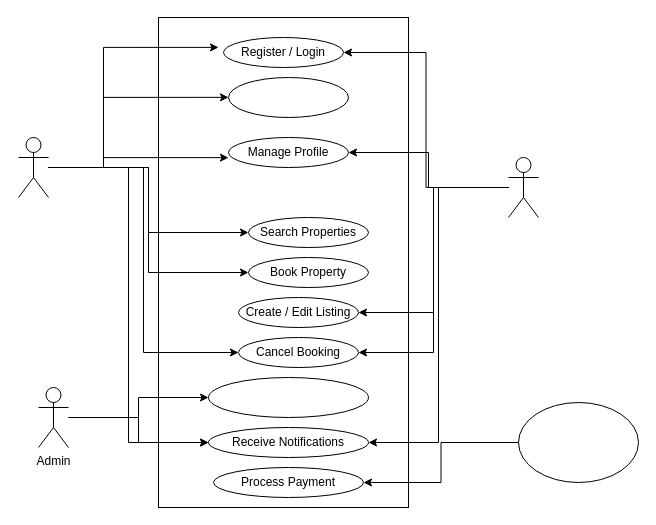
The diagram is 656 pixels wide and 525 high, and some of its shapes have lost their labels. The box of each missing label's shape, as (x1, y1, x2, y2) in pixels:
Admin Management: (208, 376, 368, 418)
Guest: (18, 136, 48, 198)
Host: (508, 156, 538, 218)
Leave Review: (228, 76, 348, 118)
Payment Gateway: (518, 402, 638, 482)
